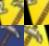pickaxe: (0, 0, 24, 25), (24, 25, 49, 46), (0, 25, 24, 46)
